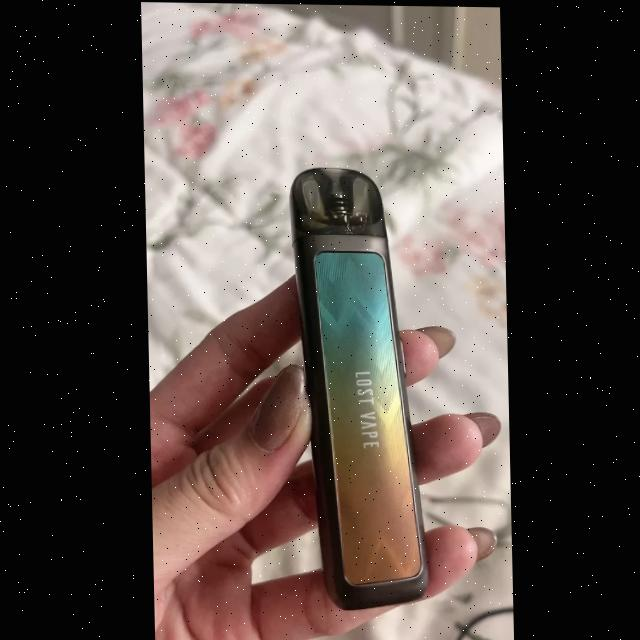vape: (286, 166, 428, 610)
